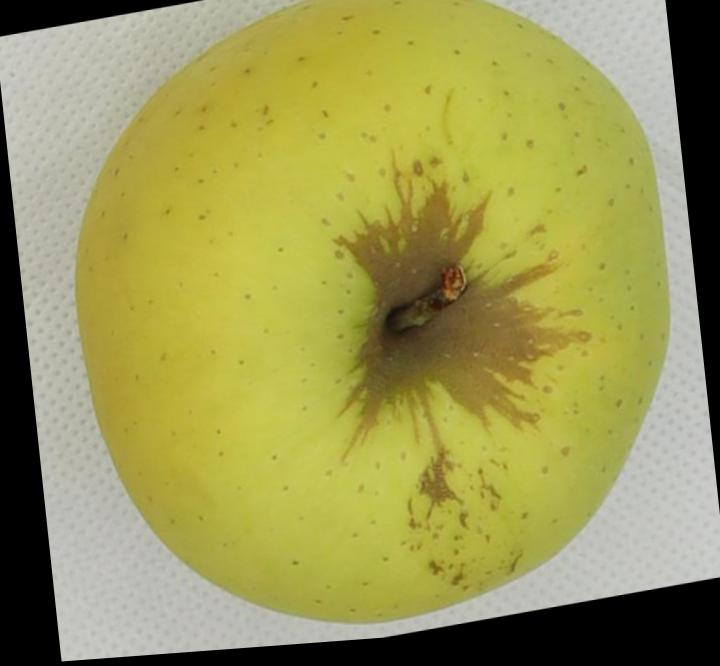apple: (76, 0, 667, 623)
bruise_discoloration: (334, 166, 592, 529)
